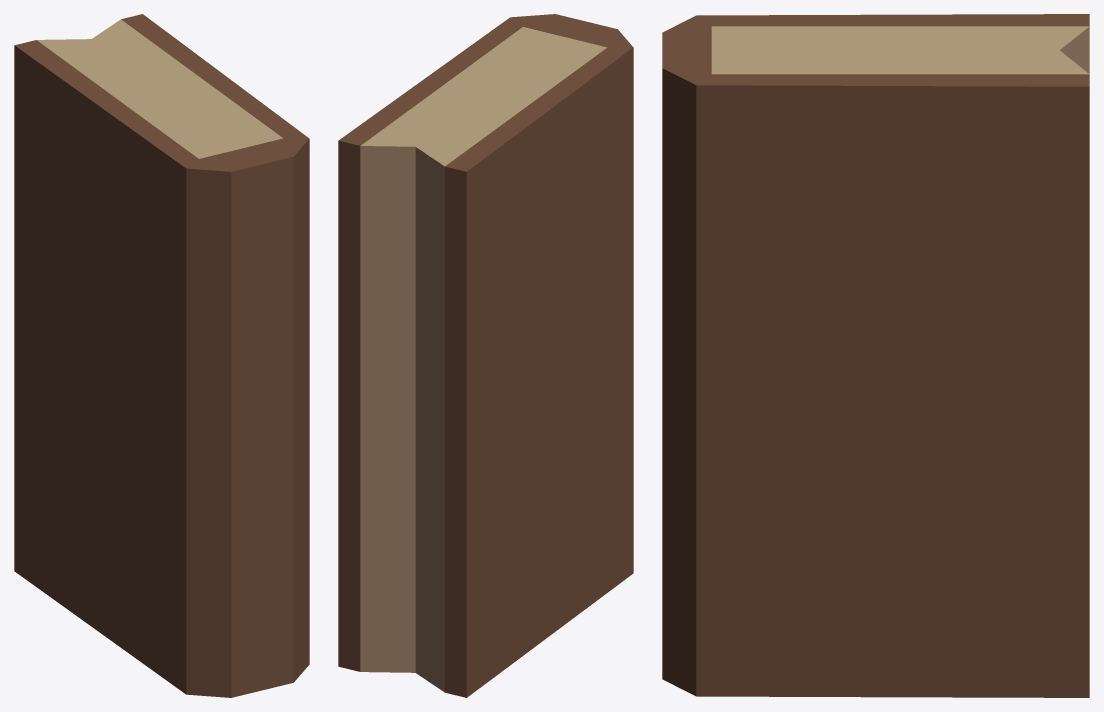
The model's file is TB_D_Prop_Book_Big_C.FBX.
3 renders of one model, left to right at view 1: azimuth 30°, elevation 25°; view 2: azimuth 150°, elevation 25°; view 3: azimuth 270°, elevation 25°, orthographic. The views are drawn at different scales.
Parts seen in each view (by area): view 1: TB_D_Prop_Book_Big_C; view 2: TB_D_Prop_Book_Big_C; view 3: TB_D_Prop_Book_Big_C.
Boxes of the visible parts, x1,y1,x2,y2 form: TB_D_Prop_Book_Big_C: [14, 14, 309, 697]; TB_D_Prop_Book_Big_C: [338, 14, 633, 697]; TB_D_Prop_Book_Big_C: [662, 14, 1089, 697].
Size of the model in its own units: 0.2144 by 0.8401 by 0.5323.
